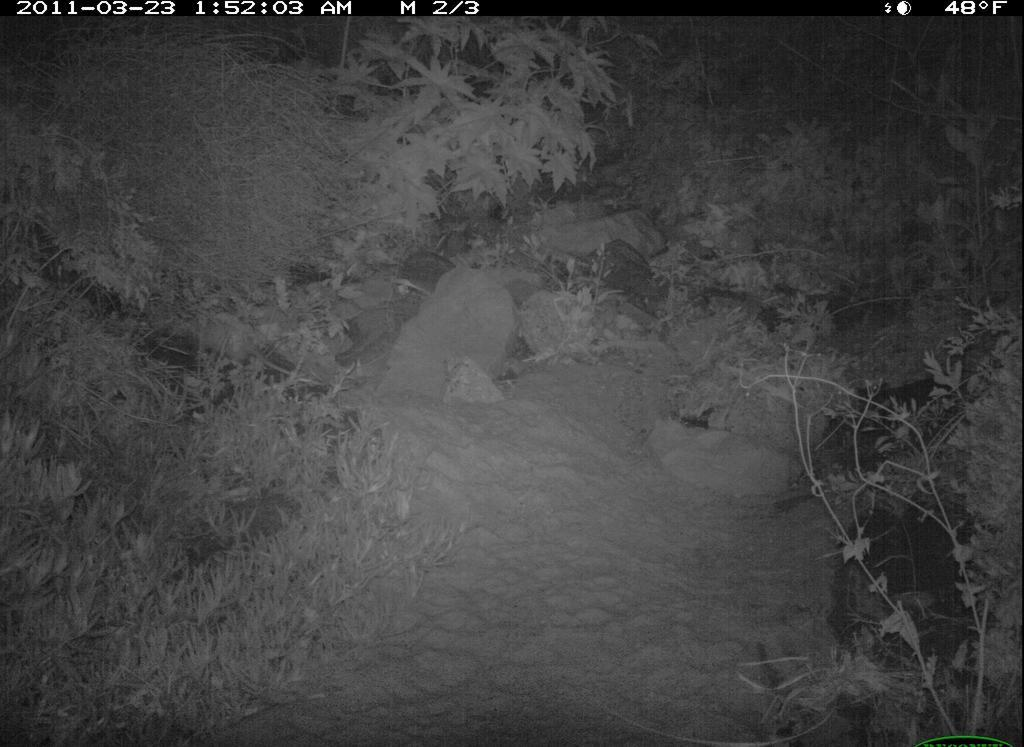opossum: (172, 310, 323, 399)
